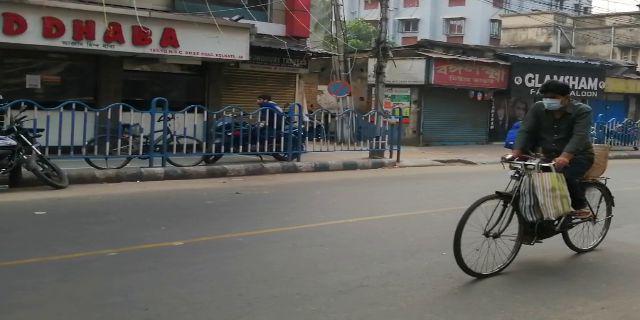Cycle: (449, 83, 616, 277)
